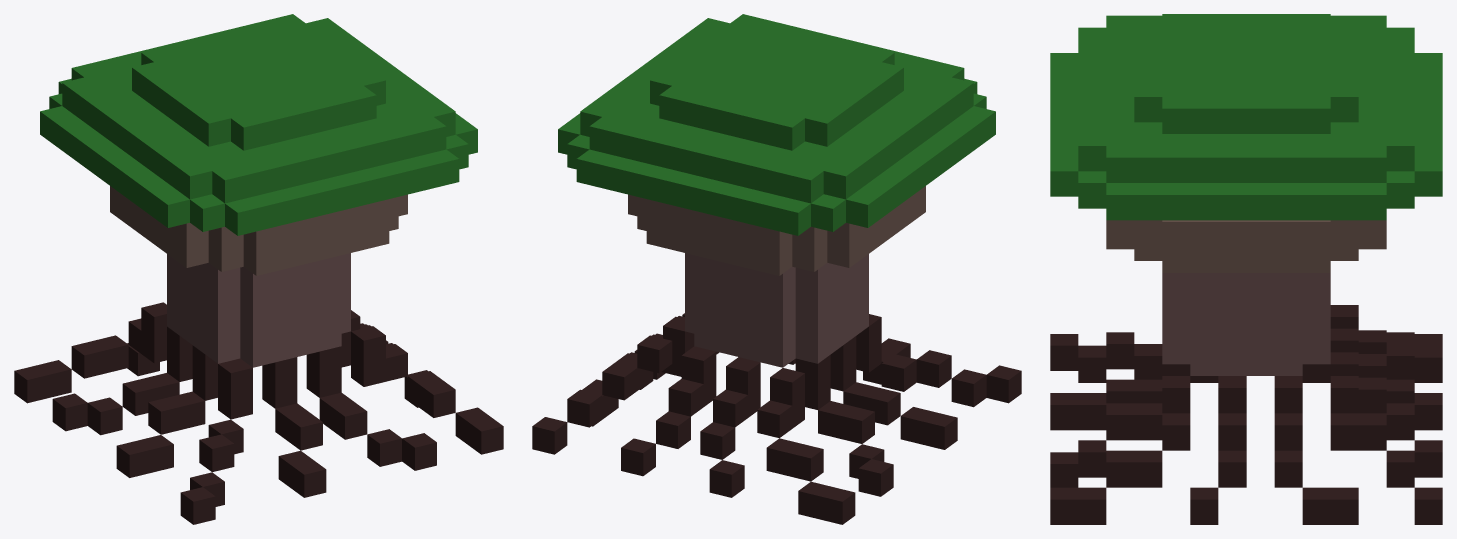
Rendered from WaterTower.glb.
The picture shows the model from 3 angles, left to right: view 1: azimuth 30°, elevation 25°; view 2: azimuth 150°, elevation 25°; view 3: azimuth 270°, elevation 25°; orthographic projection. The views are drawn at different scales.
Parts seen in each view (by area): view 1: VoxelModel; view 2: VoxelModel; view 3: VoxelModel.
Part boxes in pixels (left/top/right/bottom): VoxelModel: left=14, top=14, right=503, bottom=524; VoxelModel: left=532, top=14, right=1021, bottom=524; VoxelModel: left=1050, top=14, right=1442, bottom=524.
Size of the model in its own units: 14 by 15 by 14.
